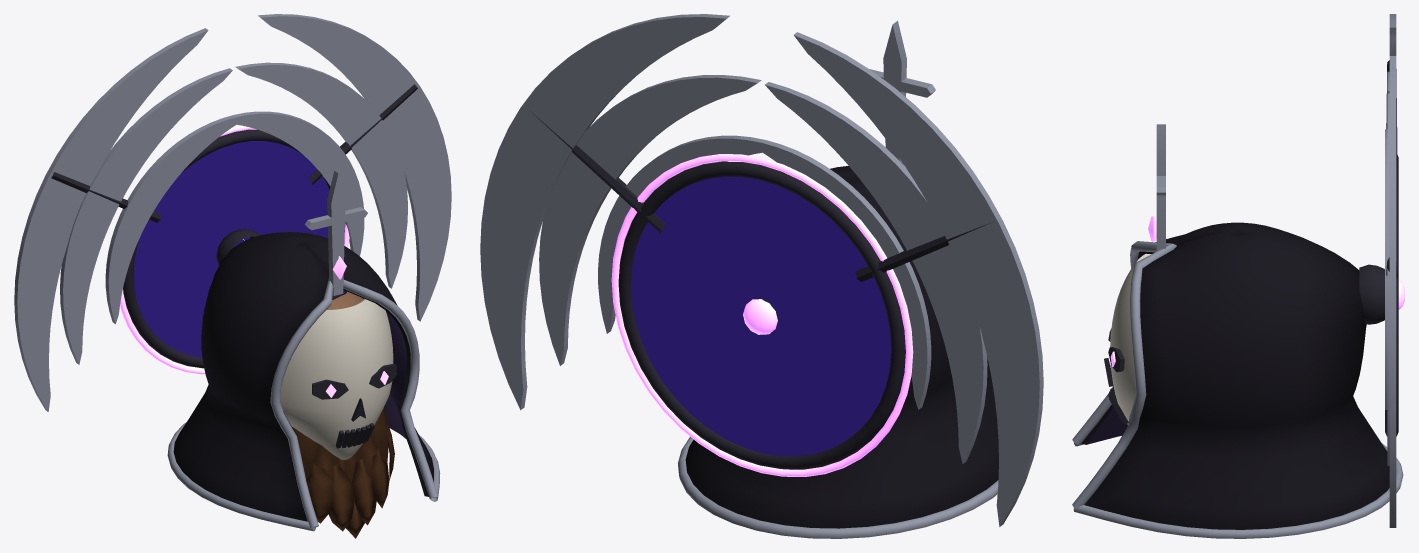
Rendered from h_reaper_d.glb.
The picture shows the model from 3 angles, left to right: view 1: azimuth 30°, elevation 25°; view 2: azimuth 150°, elevation 25°; view 3: azimuth 270°, elevation 25°; orthographic projection. The views are drawn at different scales.
Parts seen in each view (by area): view 1: Hood, BeardLocks, Beard; view 2: Hood; view 3: Hood.
Boxes of the visible parts, x1,y1,x2,y2 form: Hood: [14, 14, 451, 531]; BeardLocks: [306, 419, 394, 538]; Beard: [292, 406, 388, 480]; Hood: [480, 14, 1043, 538]; Hood: [1072, 14, 1404, 538].
Size of the model in its own units: 0.73 by 0.6846 by 0.4322.
